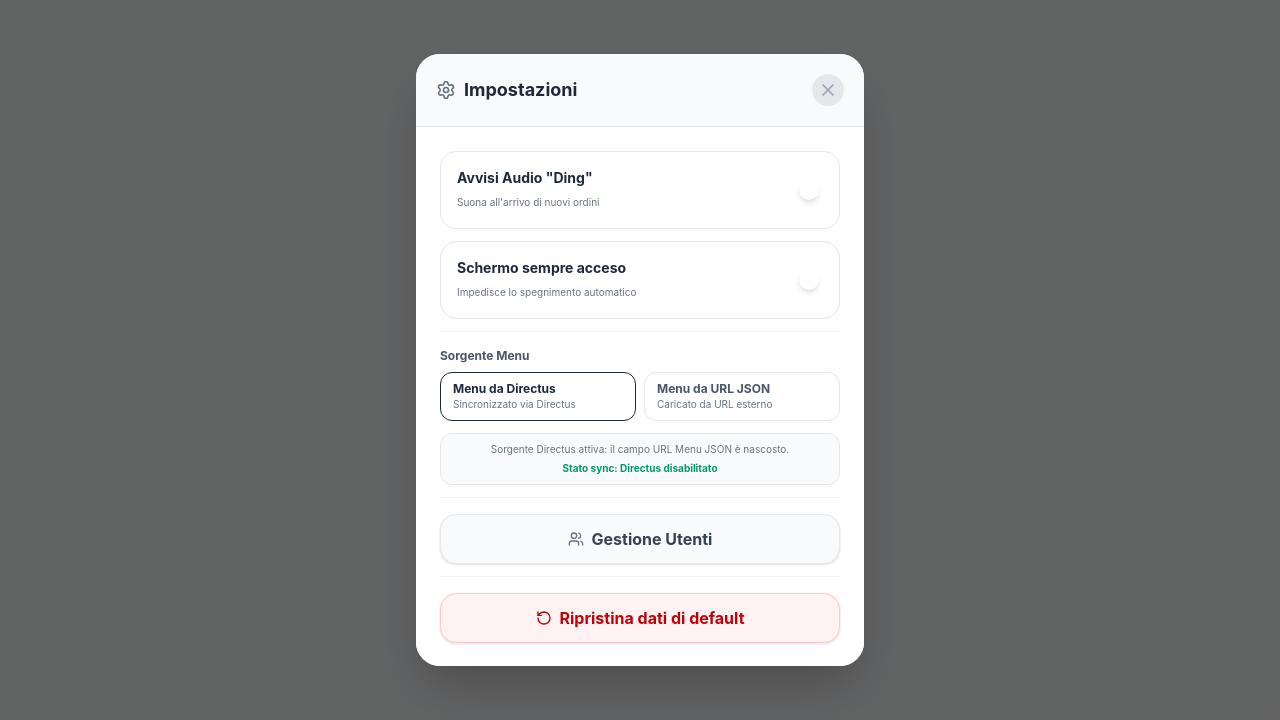
admin user logged in › shows the menu sync button to admin only when JSON source is selected
The width and height of the screenshot is (1280, 720).
Expected: the text "Sincronizza Menu URL" is not shown
Click the button "Menu da URL JSON Caricato da URL esterno". click: (742, 396)
box: [644,372,840,421]
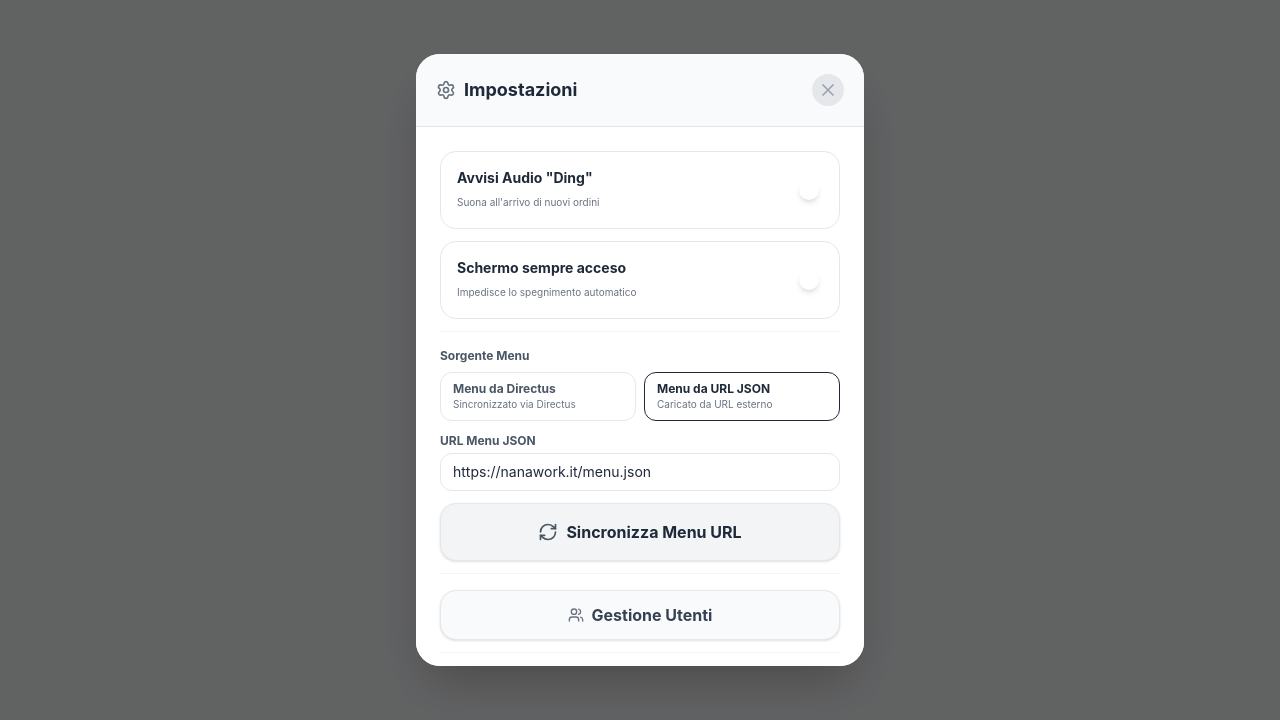
Now the text "Sincronizza Menu URL" is shown, box [566,520,742,544]
